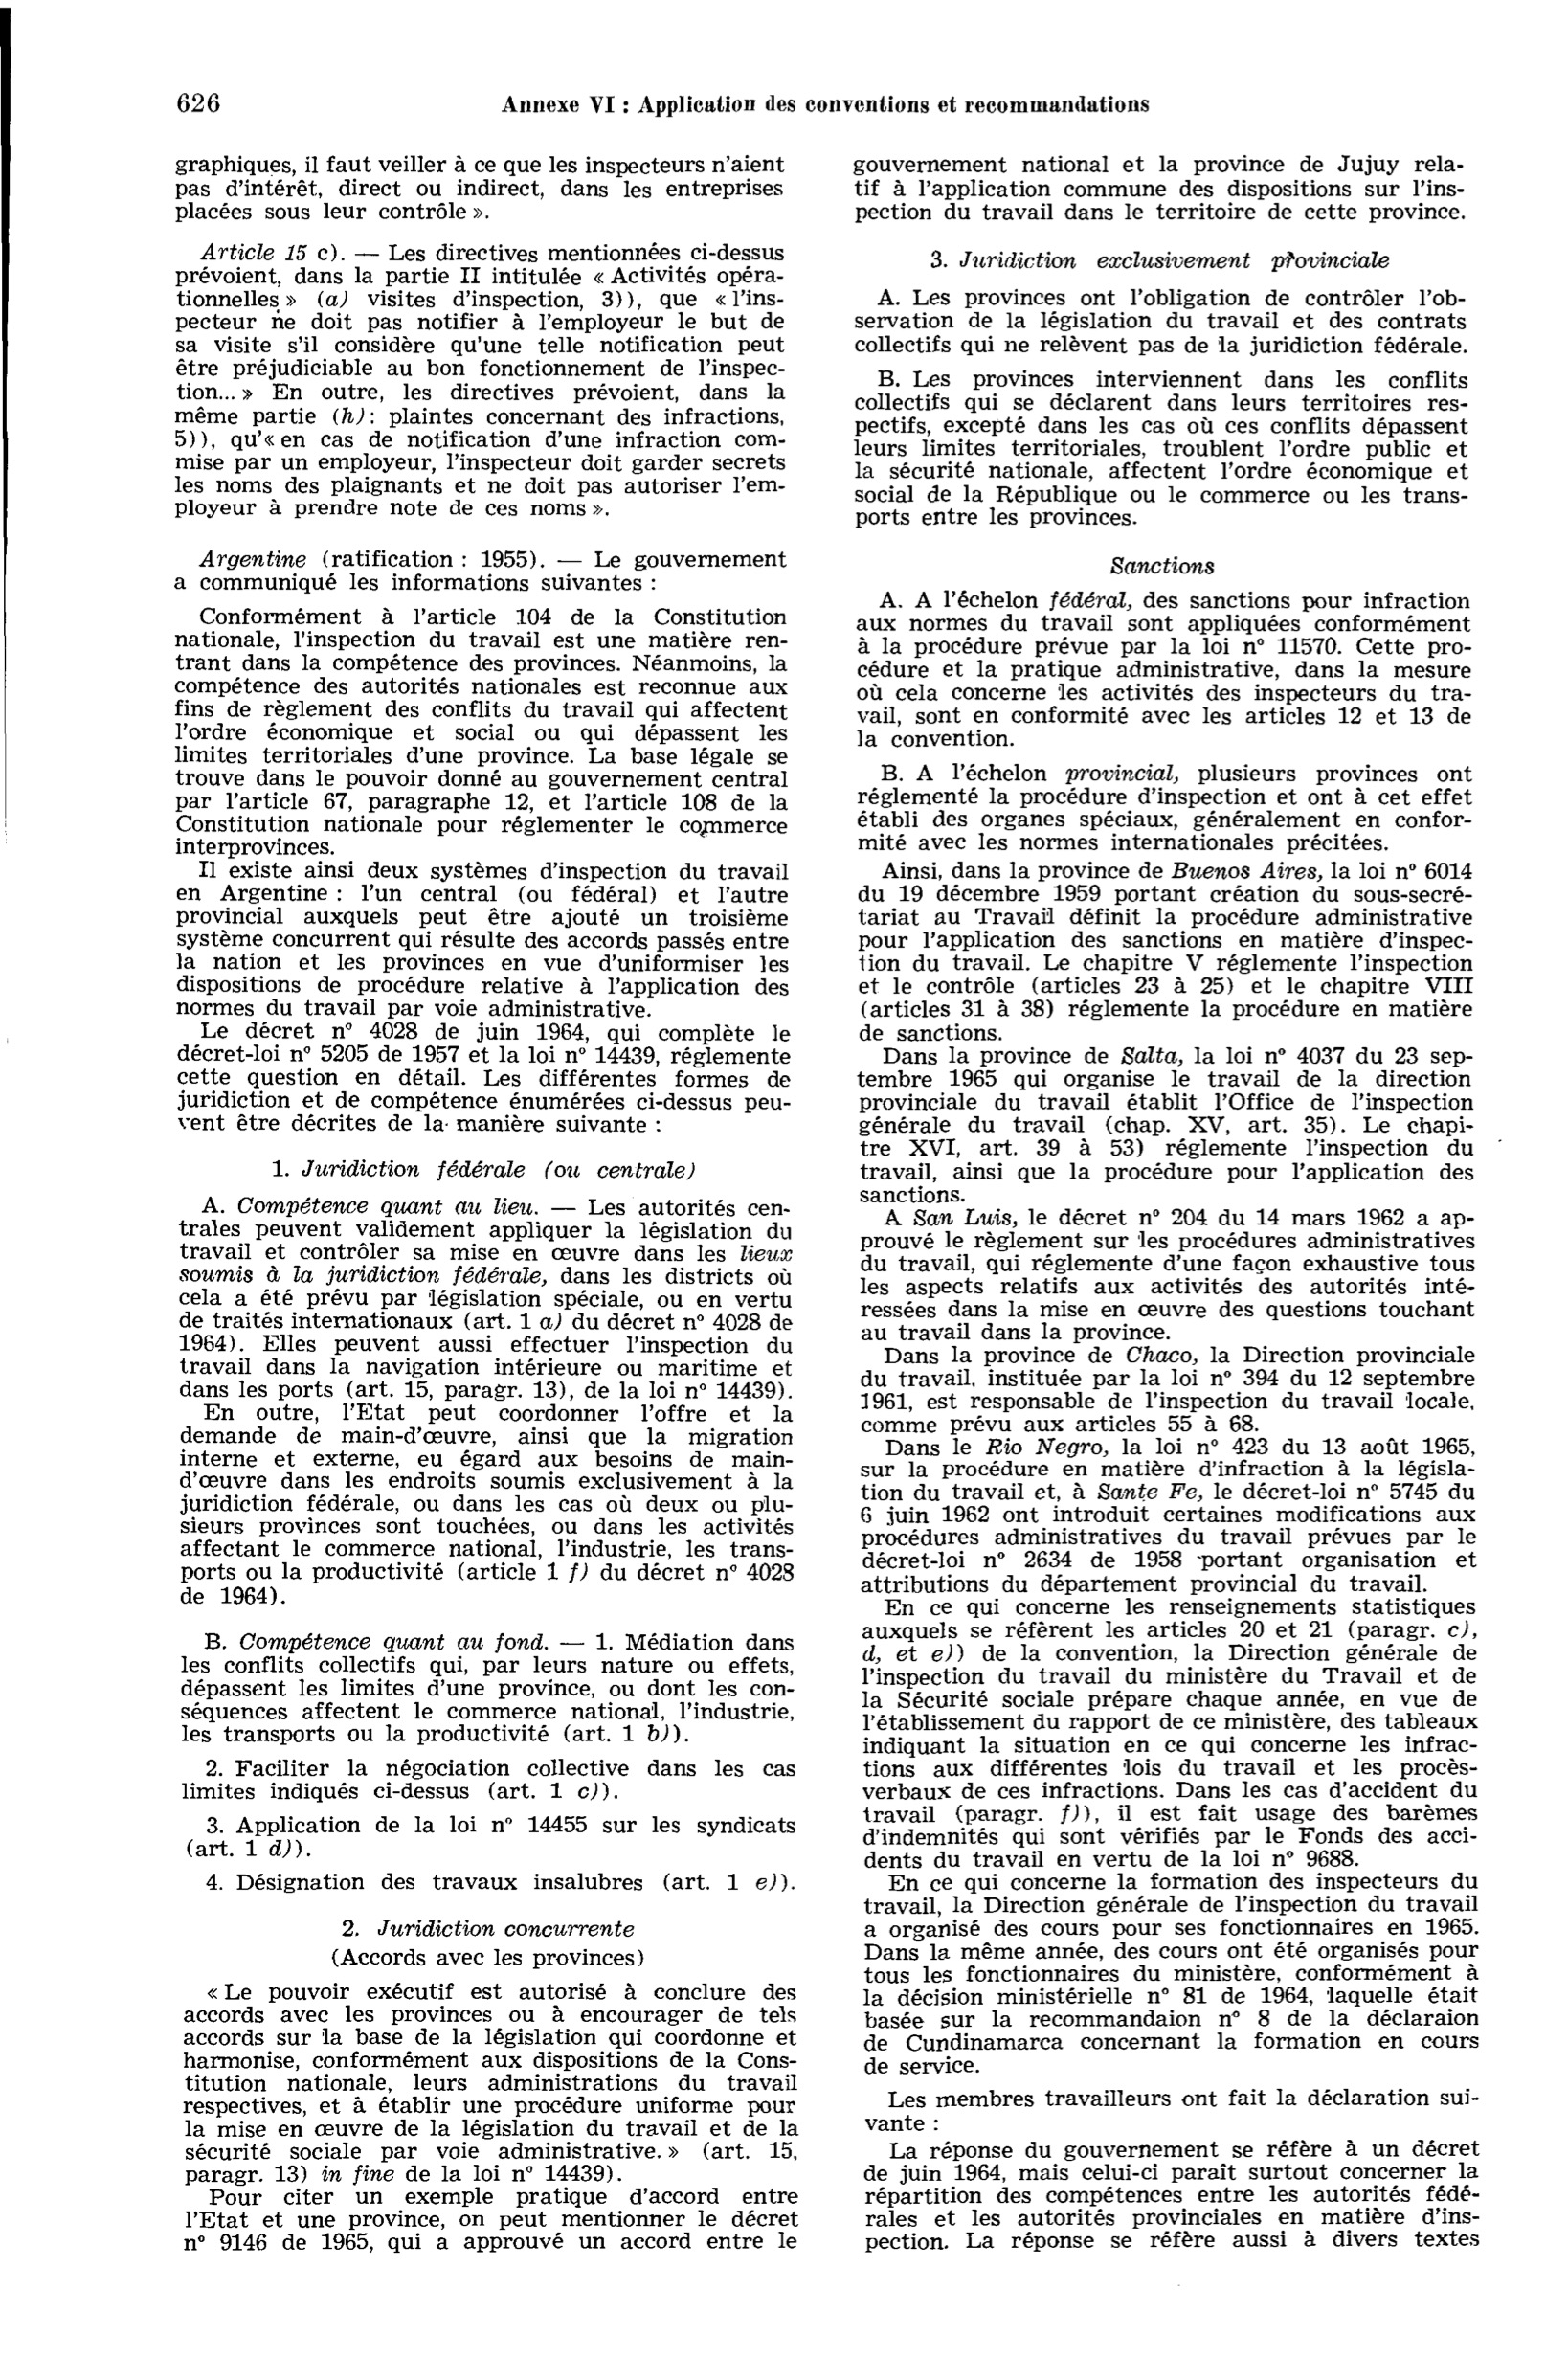MainZone-Continued: (843, 146, 1469, 233), (167, 146, 791, 228)
MainZone-Head: (312, 1912, 649, 1974), (916, 238, 1405, 278), (254, 1148, 702, 1187), (1103, 550, 1220, 584)
MainZone-ListItem: (168, 1807, 803, 1866), (169, 1751, 802, 1808), (181, 1867, 806, 1903)
MainZone-P: (168, 1192, 797, 1613), (166, 236, 791, 527), (854, 1592, 1486, 1872), (165, 603, 792, 858), (171, 1976, 804, 2185), (856, 1870, 1485, 2078), (850, 857, 1478, 1044), (845, 364, 1473, 534), (847, 586, 1478, 753), (851, 1433, 1482, 1596), (851, 1041, 1481, 1203), (167, 857, 794, 1020), (851, 1203, 1482, 1343), (857, 2136, 1489, 2264), (168, 1624, 799, 1748), (168, 1019, 795, 1141), (847, 756, 1478, 857), (851, 1342, 1482, 1436), (171, 2183, 804, 2264), (843, 282, 1474, 363), (856, 2081, 1488, 2137), (164, 542, 790, 596)
NumberingZone: (168, 82, 227, 124)
RunningTitleZone: (494, 81, 1160, 130)
